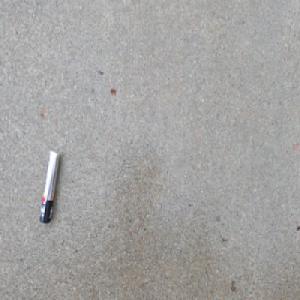Battery: (38, 148, 61, 226)
